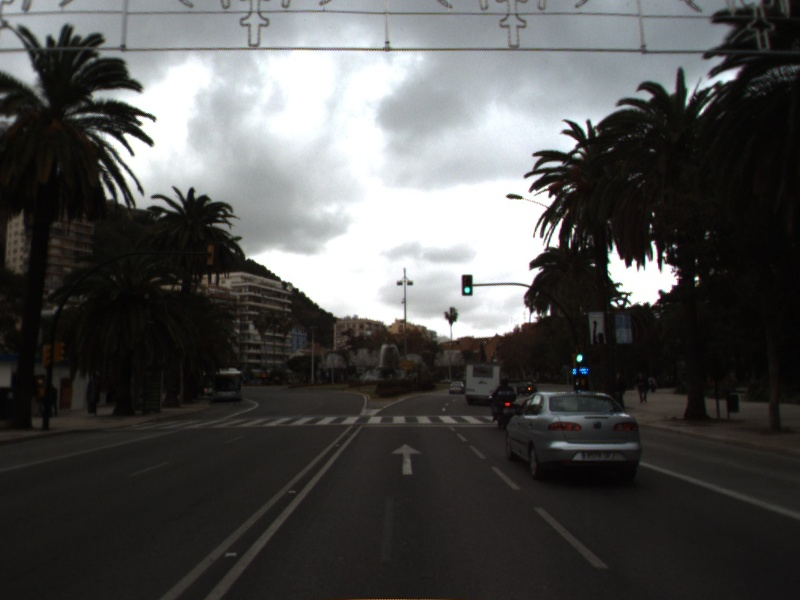STRAIGHT: (389, 441, 424, 477)
